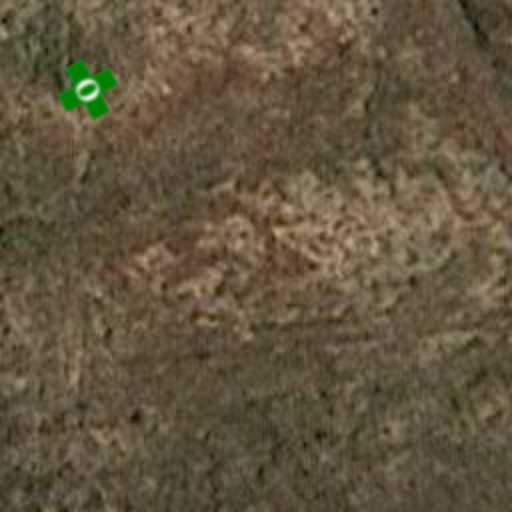cross: (48, 50, 128, 130)
